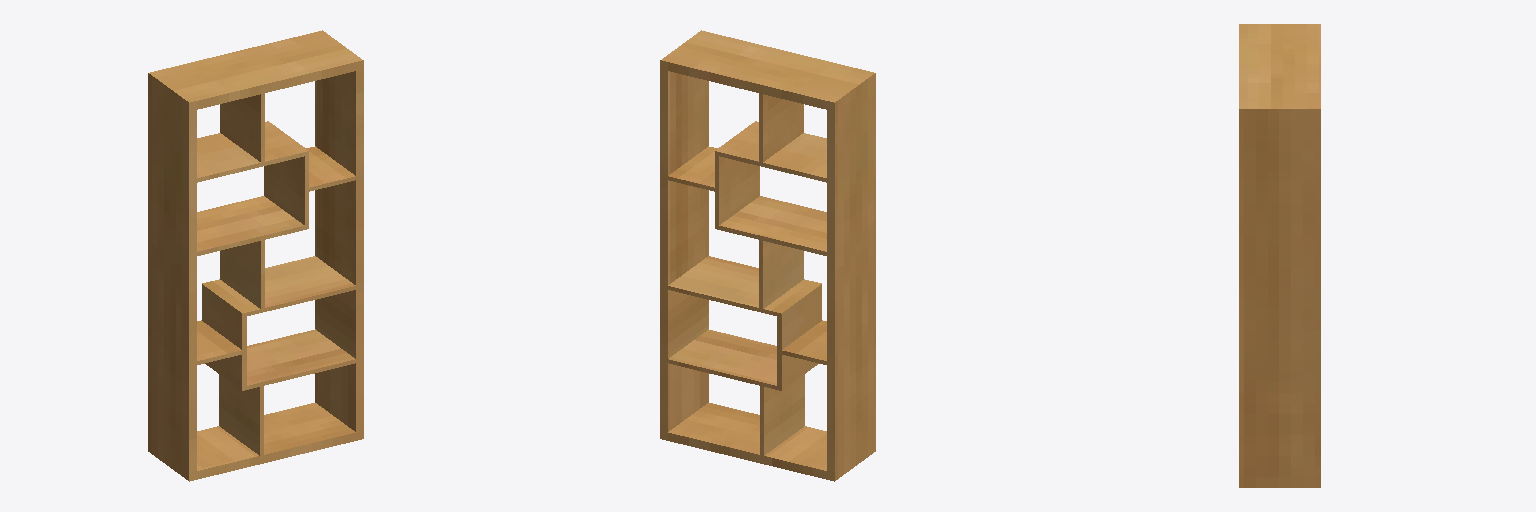
The picture shows the model from 3 angles: view 1: azimuth 30°, elevation 25°; view 2: azimuth 150°, elevation 25°; view 3: azimuth 270°, elevation 25°; orthographic projection.
Parts seen in each view (by area): view 1: Cube_Cube.001; view 2: Cube_Cube.001; view 3: Cube_Cube.001.
Part boxes in pixels (x1,y1,x2,y2): Cube_Cube.001: (148, 30, 363, 481); Cube_Cube.001: (660, 30, 875, 481); Cube_Cube.001: (1239, 24, 1320, 487).
Size of the model in its own units: 1.38 by 2.88 by 0.5616.
1 materials, 1 textured.